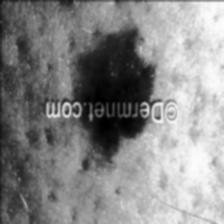Potentially Malignant Skin Tumors: (73, 38, 161, 100), (82, 122, 152, 154)
